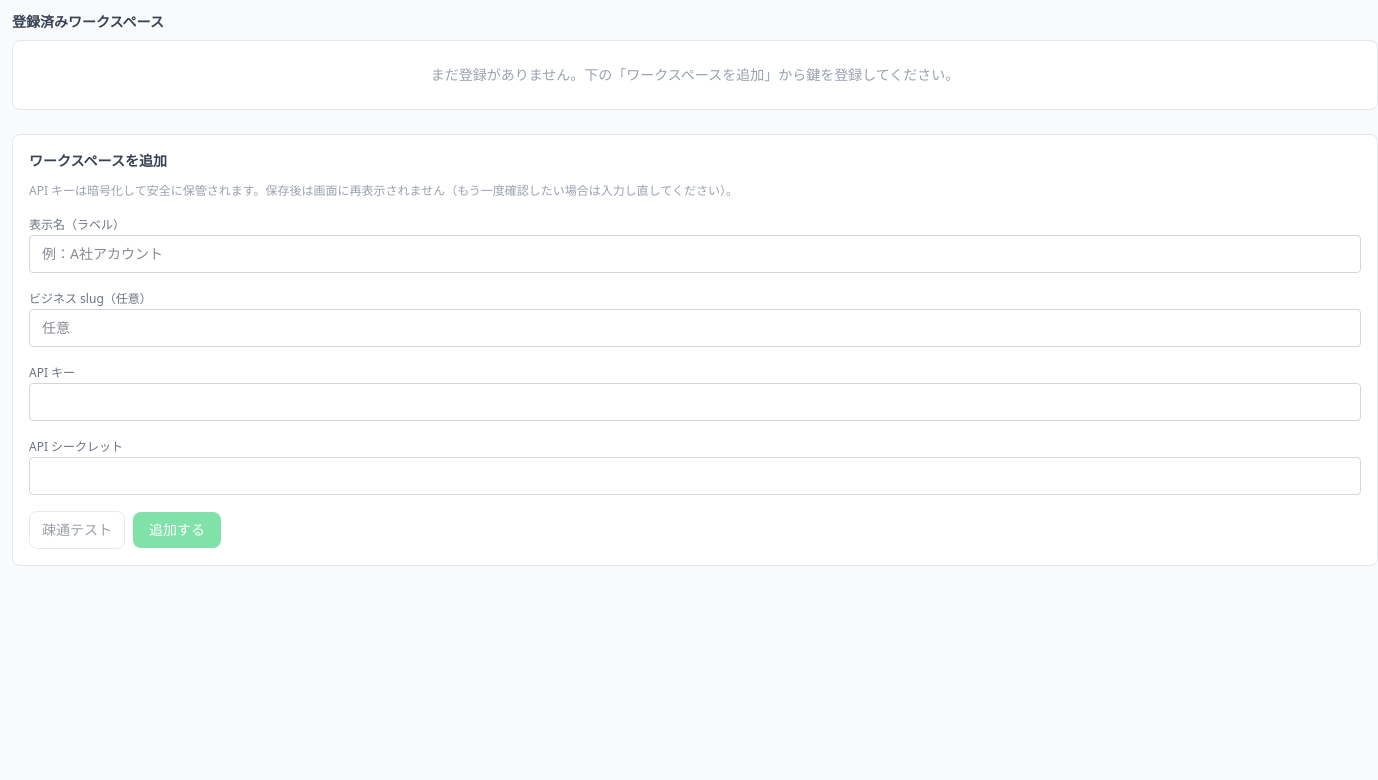
FormalooWorkspacesPanel — 追加 (② ③) › label / key / secret のいずれか空だと追加ボタンが無効
The width and height of the screenshot is (1378, 780).
Expected: the button with test id "ws-add-btn" is disabled, [133, 512, 221, 548]
In the field with test id "ws-label": [695, 254] box [29, 235, 1361, 273], type "A社"
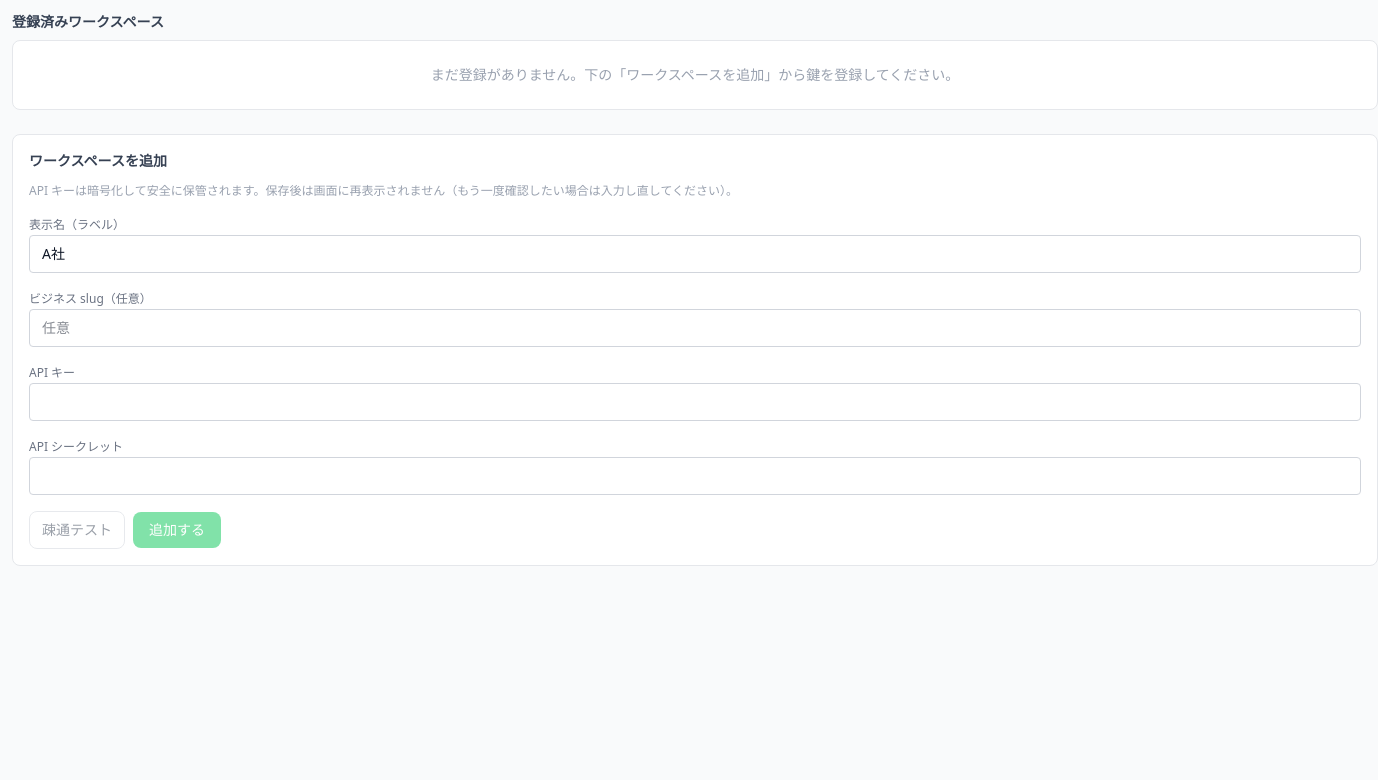
In the password field with test id "ws-key": [695, 402] box [29, 383, 1361, 421], type "k"
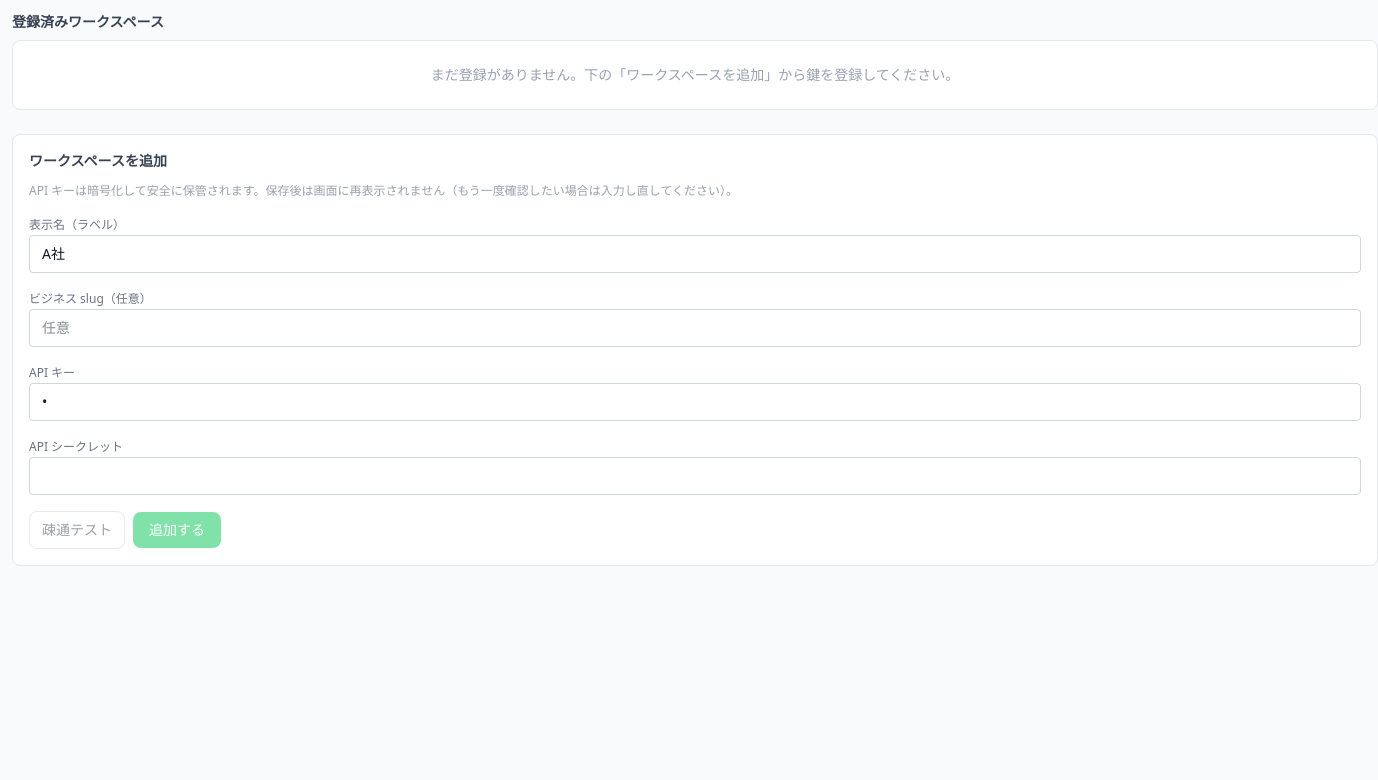
Expected: the button with test id "ws-add-btn" is disabled, [133, 512, 221, 548]
In the password field with test id "ws-secret": [695, 476] box [29, 457, 1361, 495], type "s"
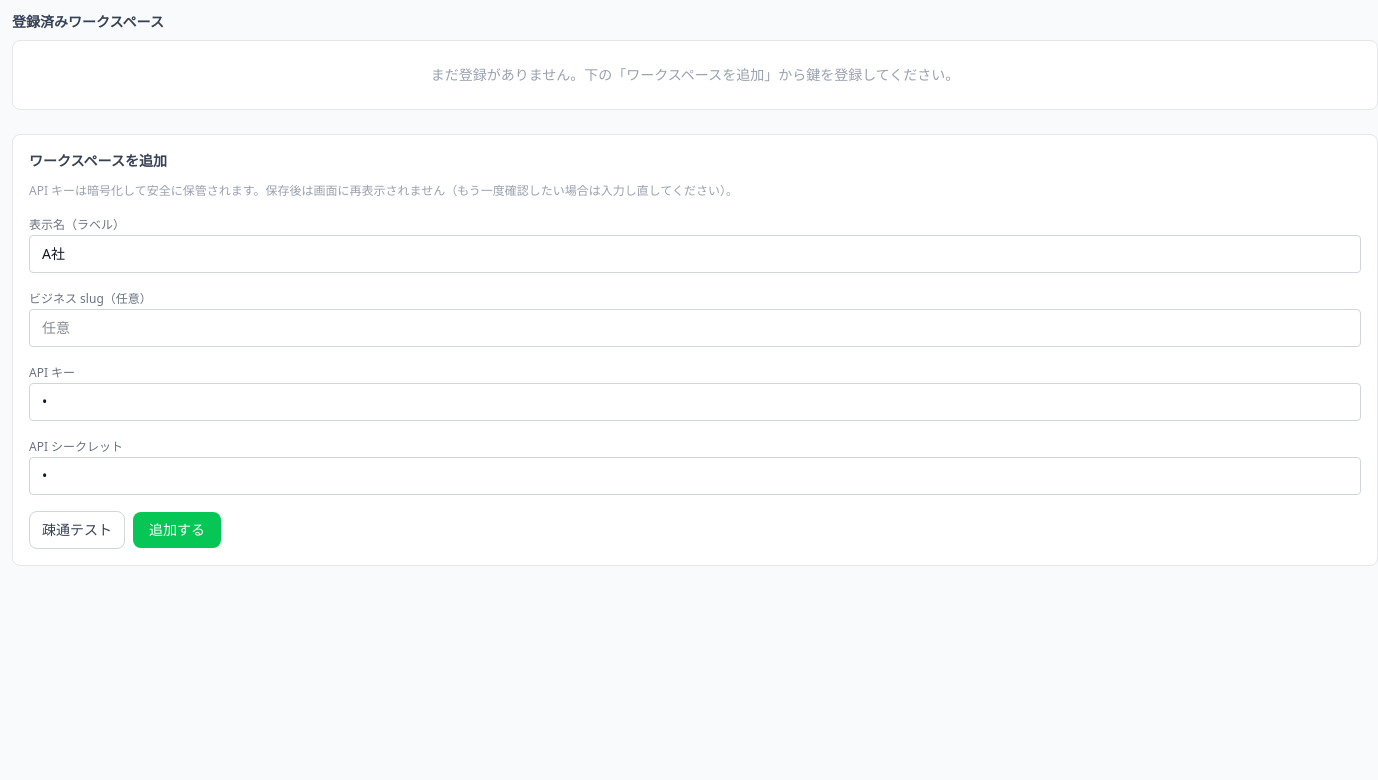
Expected: the button with test id "ws-add-btn" is enabled, [133, 512, 221, 548]
